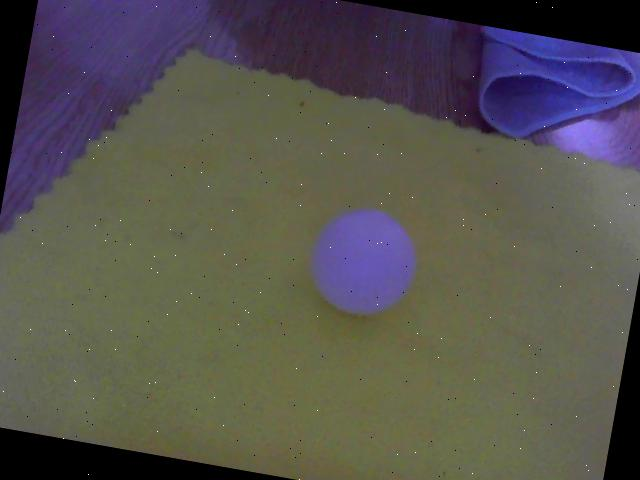ball: (303, 202, 424, 324)
